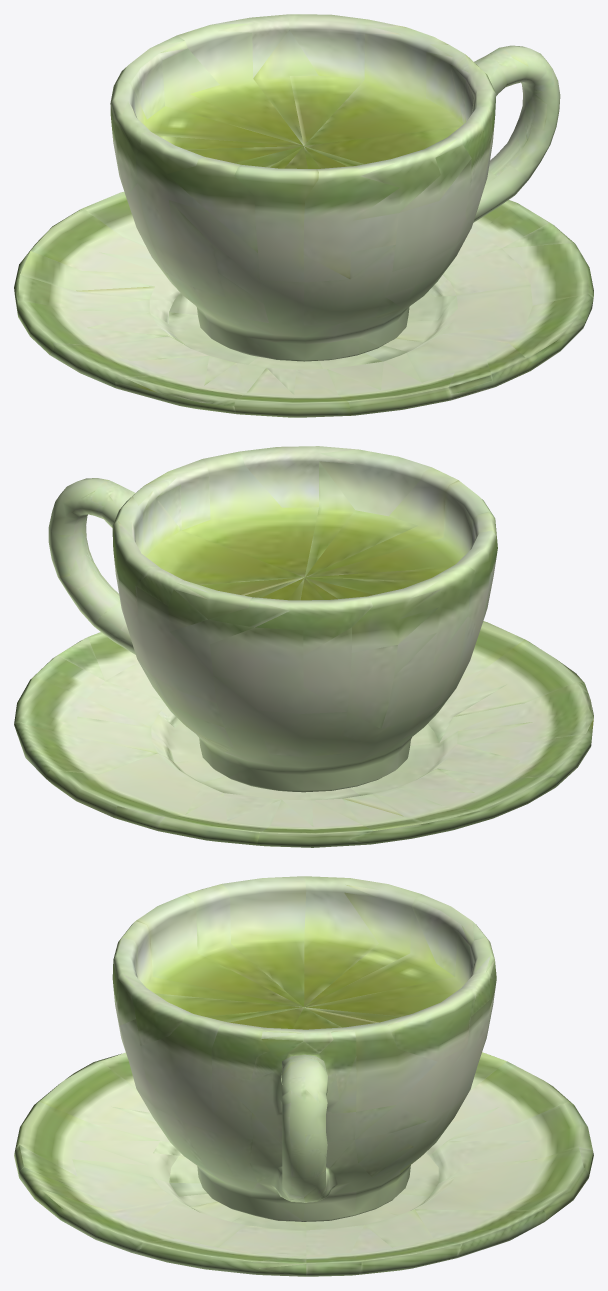
The model's file is item-glowTea.glb.
3 renders of one model, top to bottom at view 1: azimuth 30°, elevation 25°; view 2: azimuth 150°, elevation 25°; view 3: azimuth 270°, elevation 25°, orthographic.
Size of the model in its own units: 0.9531 by 0.4438 by 0.9526.
1 material, 1 textured.
